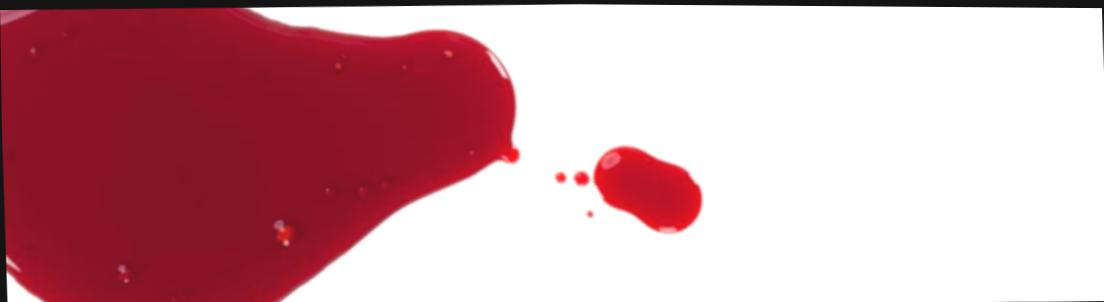Fire: (0, 7, 519, 302), (592, 143, 702, 232), (572, 169, 589, 185), (553, 169, 566, 182)
